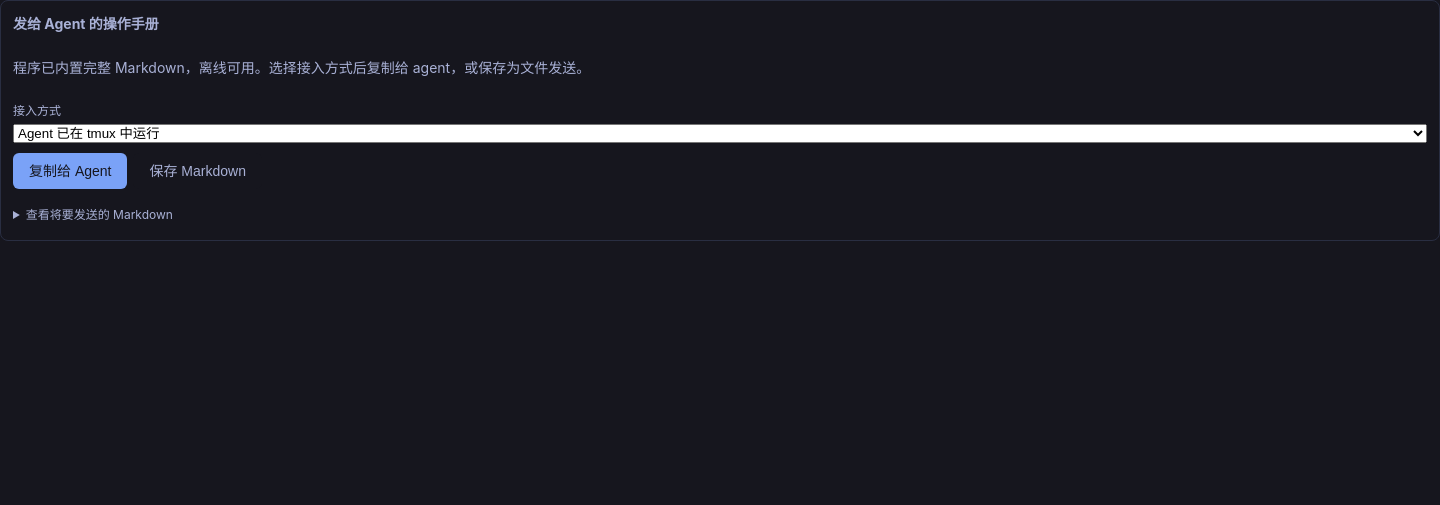
Test case: opens a selectable full text fallback when clipboard access fails
Click the button "复制给 Agent".
click(70, 171)  # box [13,153,128,189]
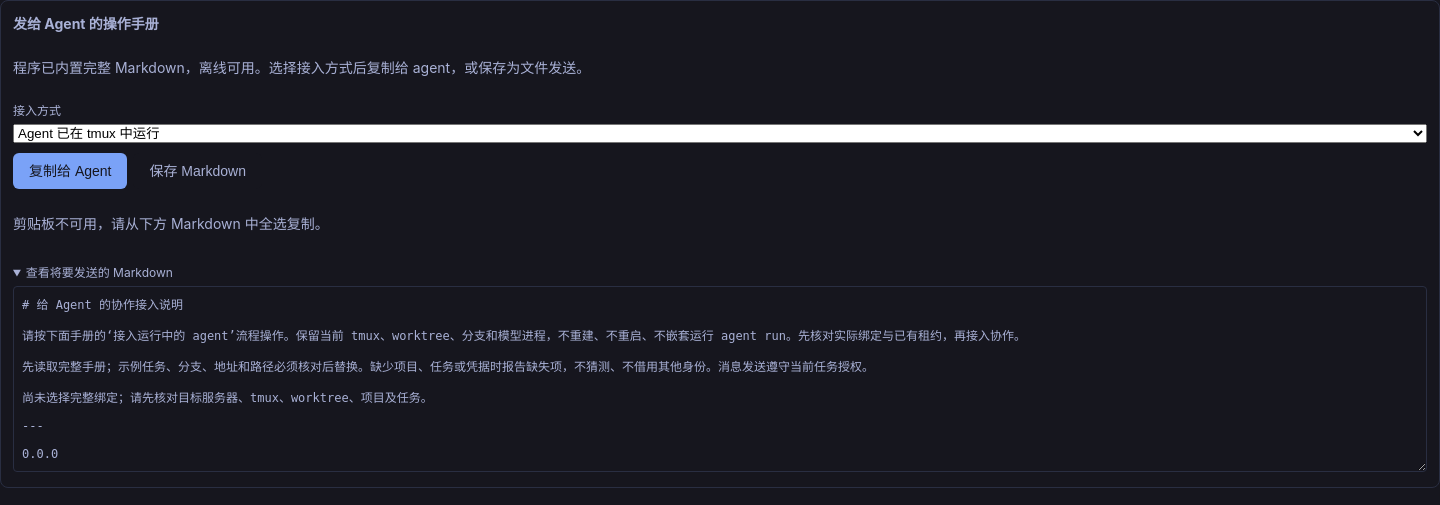
Result: the text "剪贴板不可用，请从下方 Markdown 中全选复制。" is shown at [13,215,329,232]
